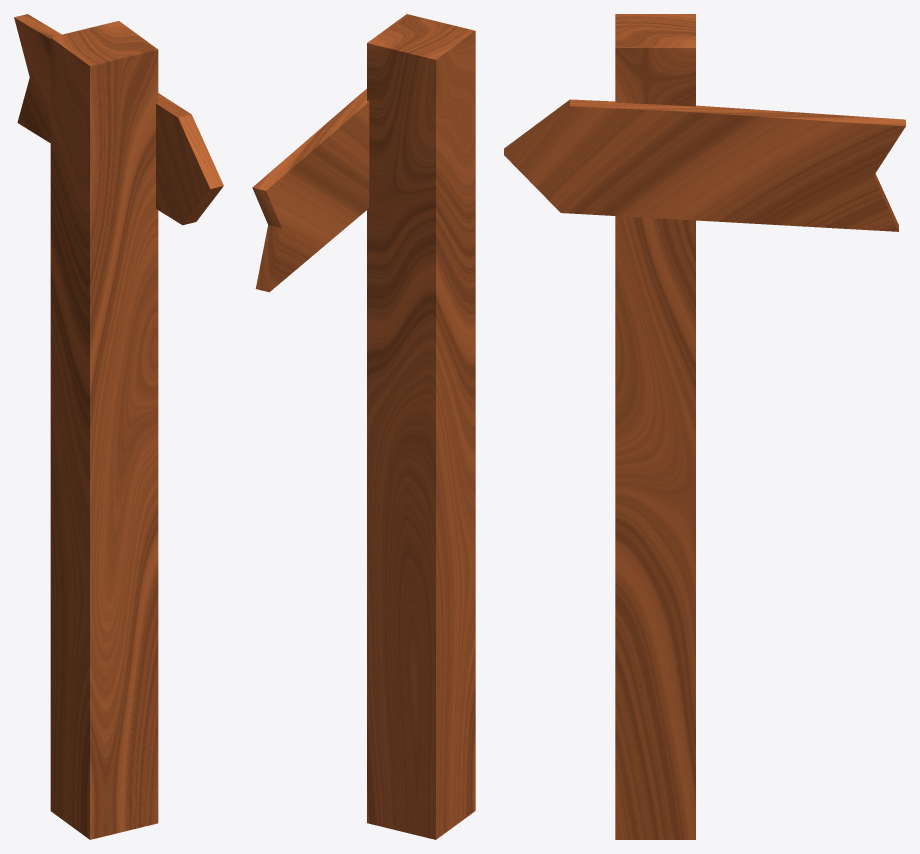
The model's file is Sign2.fbx.
3 renders of one model, left to right at view 1: azimuth 30°, elevation 25°; view 2: azimuth 150°, elevation 25°; view 3: azimuth 270°, elevation 25°, orthographic. The views are drawn at different scales.
Parts seen in each view (by area): view 1: Cube.003; view 2: Cube.003; view 3: Cube.003.
Part boxes in pixels (x1,y1,x2,y2): Cube.003: [14, 14, 223, 839]; Cube.003: [252, 14, 475, 839]; Cube.003: [504, 14, 905, 839].
Size of the model in its own units: 20.95 by 195 by 89.46.
1 material, 1 textured.
